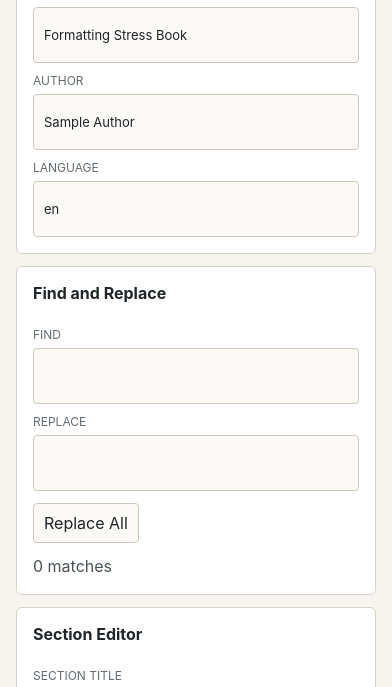
Test: App › uses the find and replace panel to update the visible app state
This screenshot has width=392, height=687.
(page scrolled)
Type "first paragraph" into the field labelled "Find".
click(196, 376); type("first paragraph")  # box [33,348,359,404]
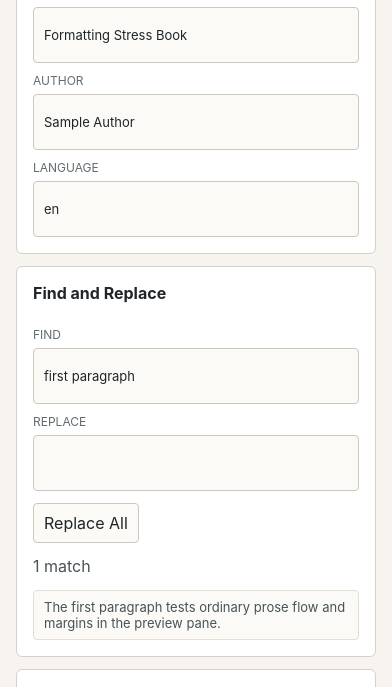
Type "opening paragraph" into the field labelled "Replace".
click(196, 463); type("opening paragraph")  # box [33,435,359,491]
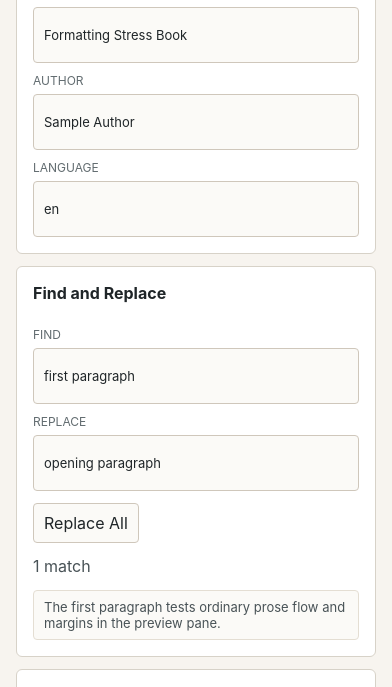
Click the button "Replace All".
click(86, 523)  # box [33,503,139,543]
(page scrolled)
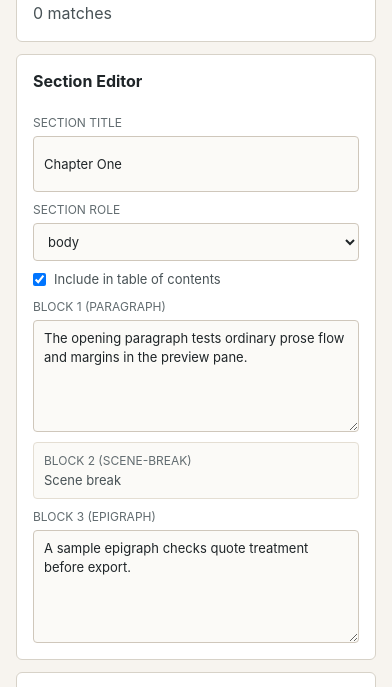
Expected: the list item "The first paragraph tests ordinary prose flow and margins in the preview pane." is gone
Expected: the text box labelled "Block 1 (paragraph)" holds "The opening paragraph tests ordinary prose flow and margins in the preview pane.", [33,320,359,432]
